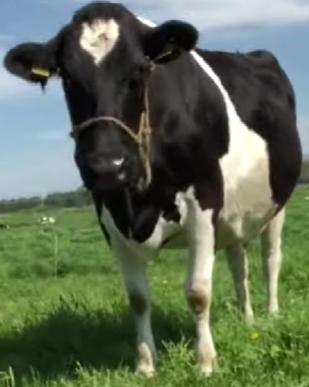cow: (5, 4, 302, 378)
